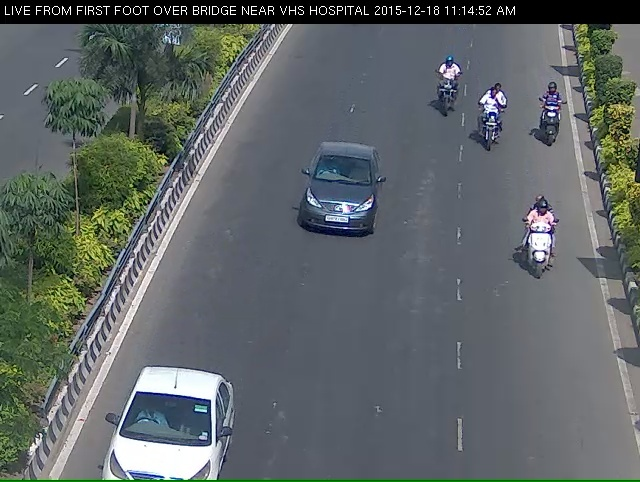Car: (289, 146, 384, 260), (98, 394, 222, 481)
Person: (517, 210, 563, 295), (423, 61, 465, 130), (473, 89, 512, 159), (539, 87, 565, 158)
